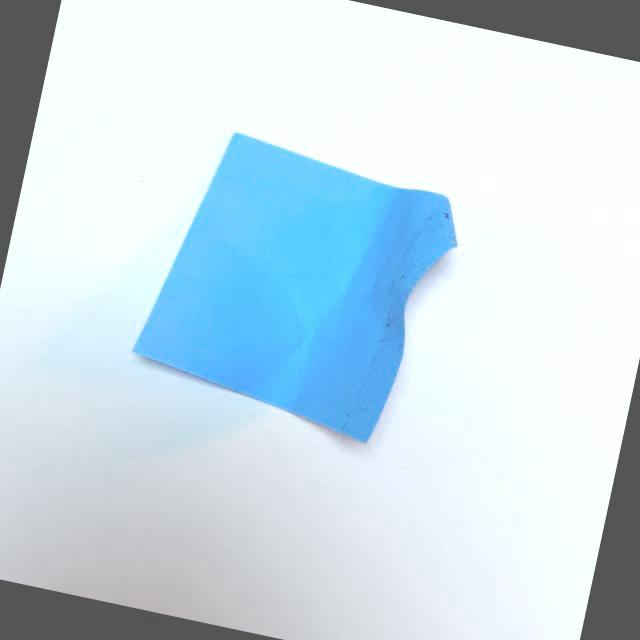paper: (112, 104, 506, 472)
